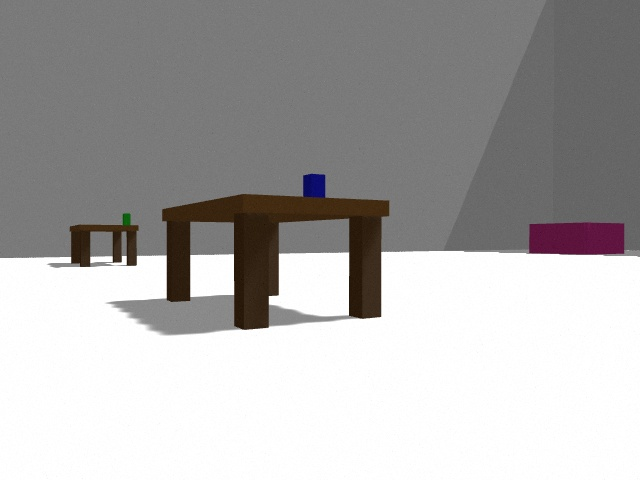blue_cube: (303, 174, 325, 197)
green_cube: (123, 213, 131, 225)
red_drop_zone: (529, 222, 624, 255)
